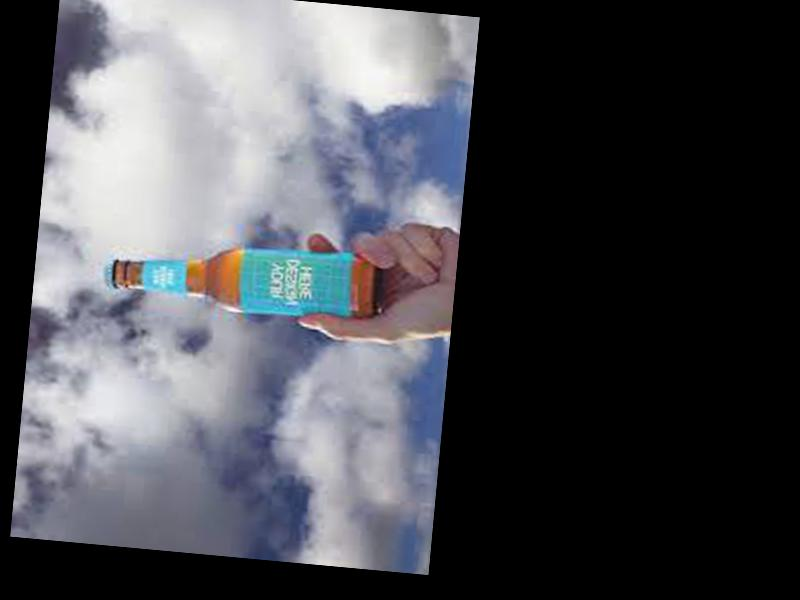Beer: (103, 237, 381, 325)
